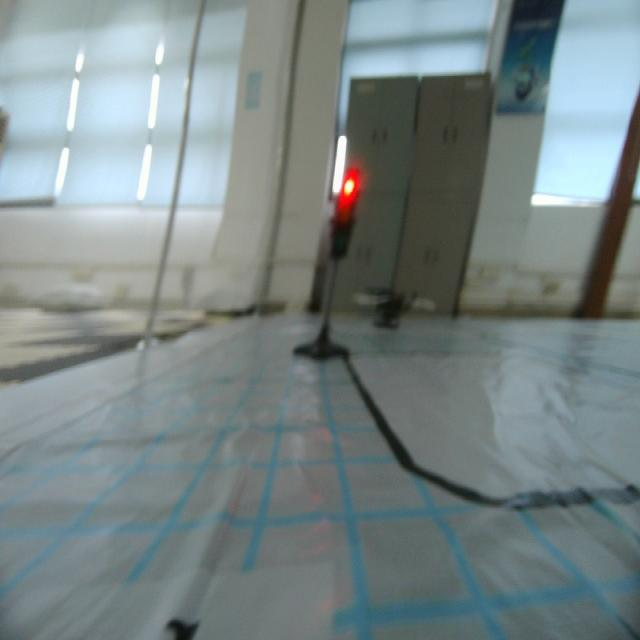red: (332, 168, 362, 269)
